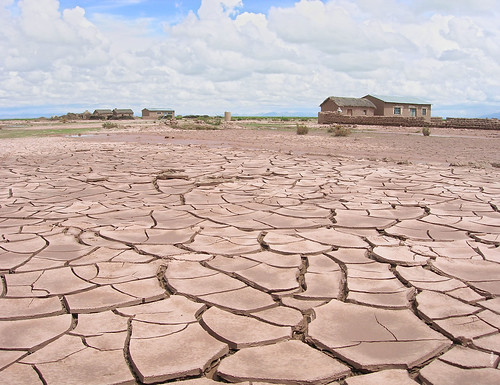building: (323, 92, 429, 122), (138, 104, 175, 117)
dirt: (1, 133, 498, 385)
sky: (1, 1, 500, 104)
